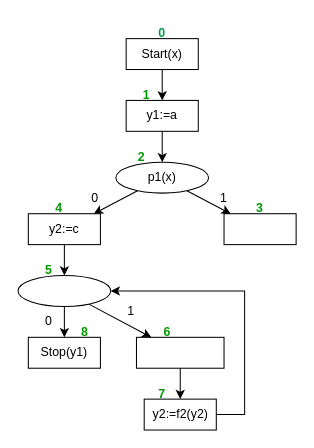
Image size: 314x448. Some labels were removed from this diagram. Each missing label, with the centre of its shape:
p2(y2): the point at 64,290
Stop(b): the point at 259,229
y1:=f1(y1, y2): the point at 179,352
